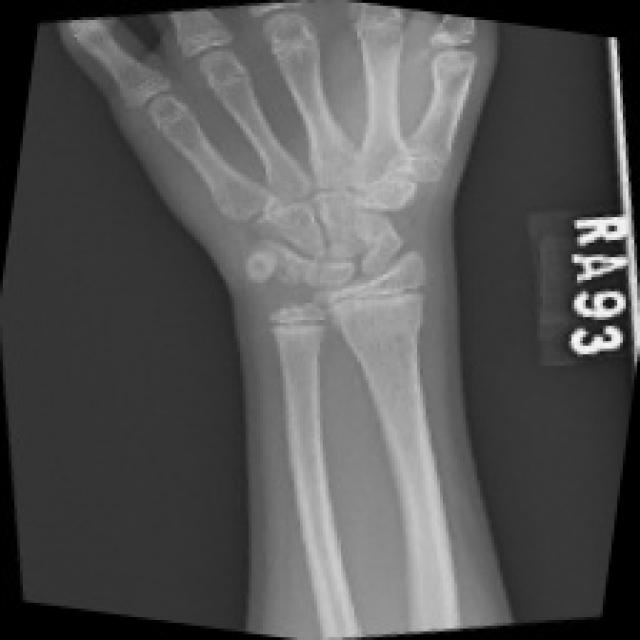fracture: (388, 148, 466, 218)
